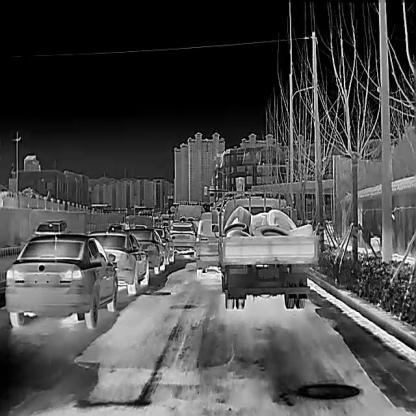car: (209, 186, 322, 309), (3, 229, 120, 328), (86, 229, 149, 297), (125, 227, 167, 274), (197, 209, 223, 277), (168, 220, 197, 258), (31, 217, 69, 242), (154, 226, 177, 264), (105, 221, 128, 232)
